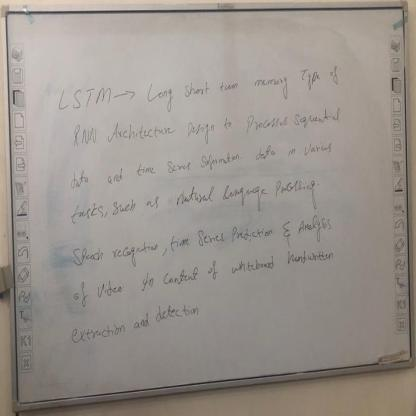Handwritten text: (59, 234, 342, 310), (66, 203, 339, 277), (51, 55, 346, 116), (65, 133, 343, 193), (64, 170, 328, 232), (67, 96, 348, 151), (59, 291, 210, 359)
